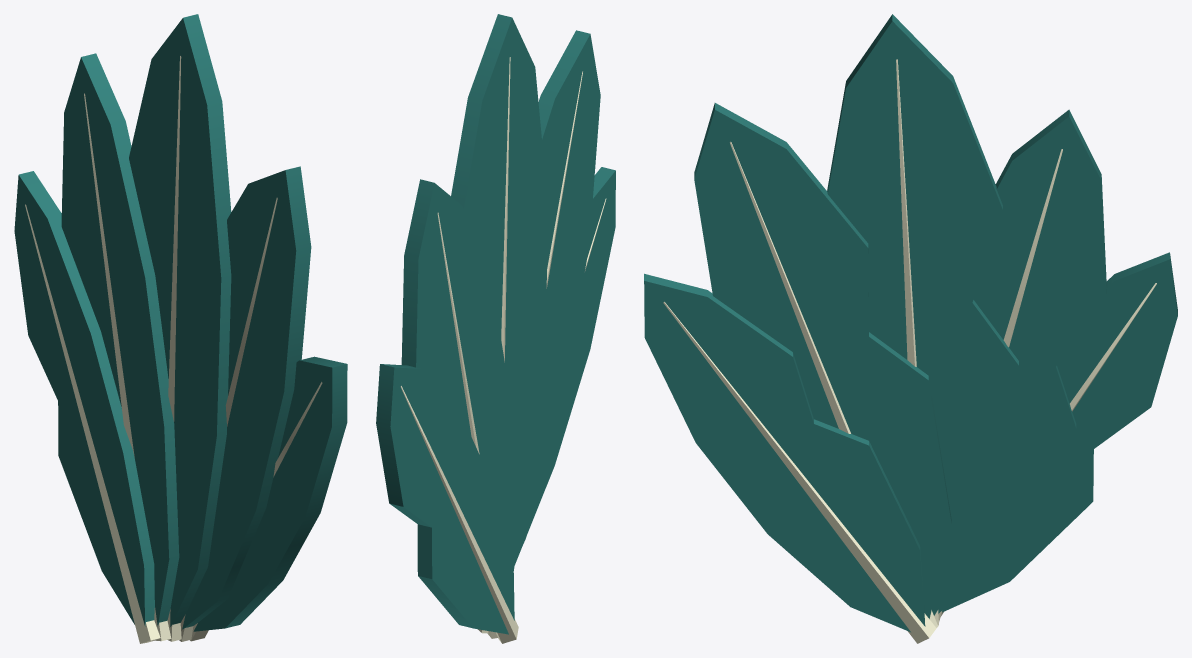
File: wing_feather.glb
3 renders of one model, left to right at view 1: azimuth 30°, elevation 25°; view 2: azimuth 150°, elevation 25°; view 3: azimuth 270°, elevation 25°, orthographic. The views are drawn at different scales.
Visible parts, largest first — view 1: wing_feather; view 2: wing_feather; view 3: wing_feather.
Boxes of the visible parts, box(x1,y1,x2,y2) form: wing_feather: box(14, 14, 347, 643); wing_feather: box(376, 14, 615, 643); wing_feather: box(644, 14, 1177, 643).
Size of the model in its own units: 0.0746 by 0.7264 by 0.572.
